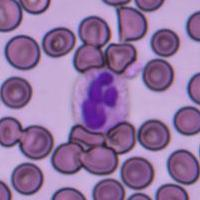N: (70, 67, 130, 134)
